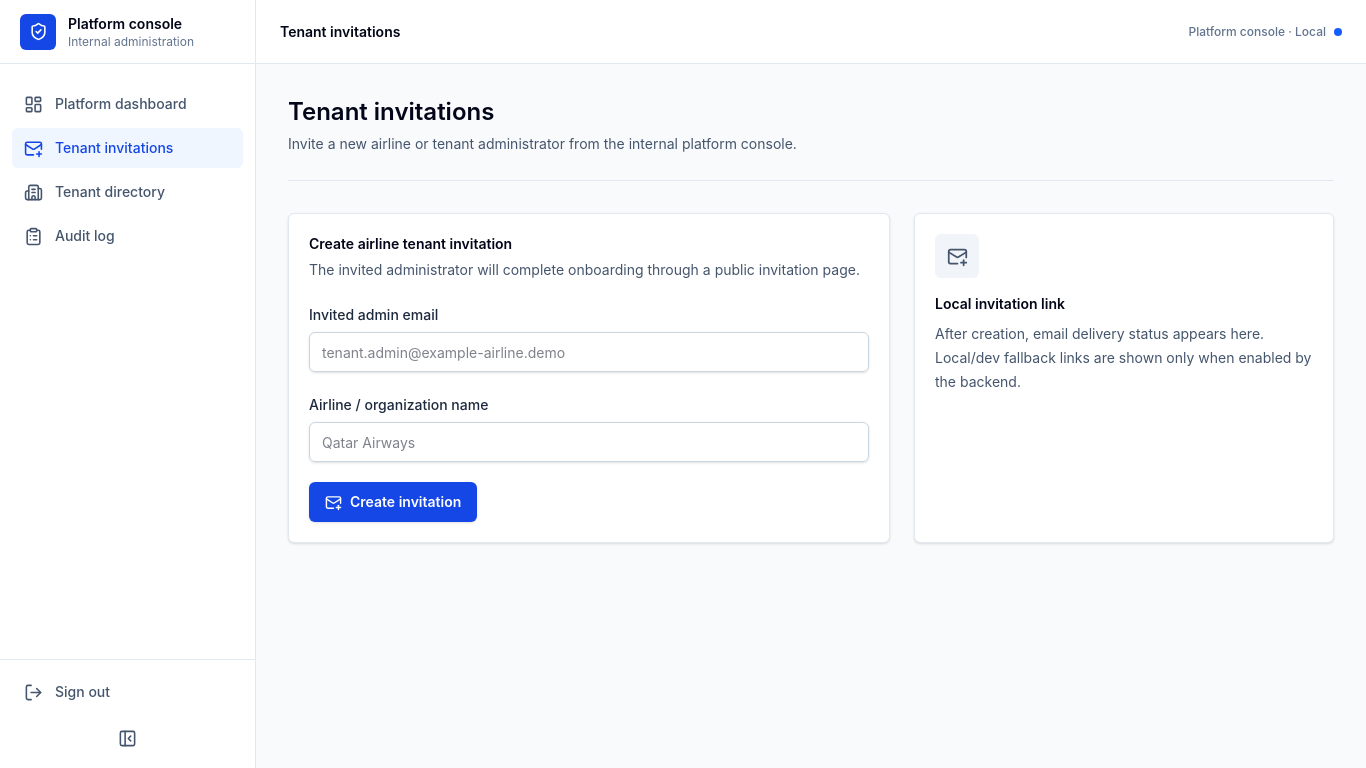
Test case: PlatformInvitationsPage › shows failed email delivery state without hiding the available fallback link
The image size is (1366, 768).
Type "tenant.admin@thy.demo" into the field labelled "Invited admin email" at (589, 352), box [309,332,869,372]
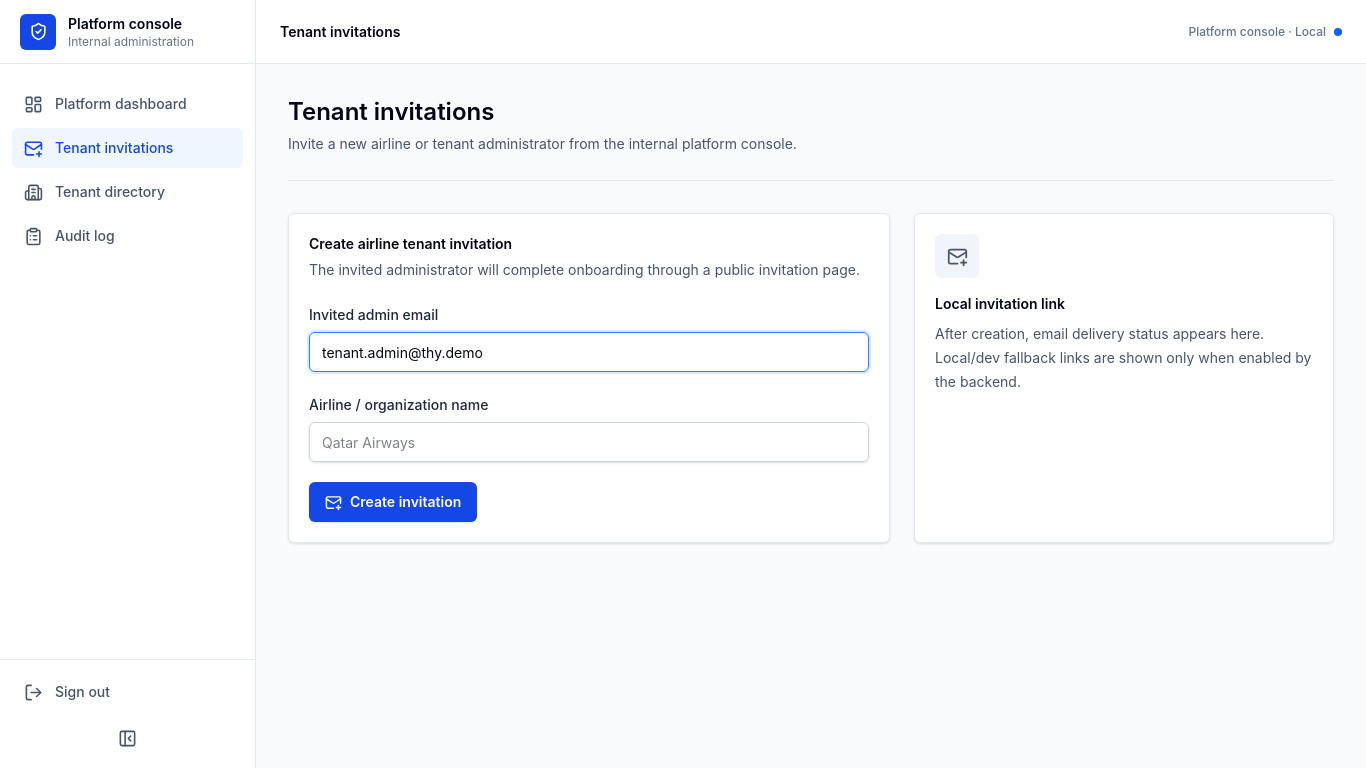
Type "THY Airlines" into the field labelled "Airline / organization name" at (589, 442), box [309,422,869,462]
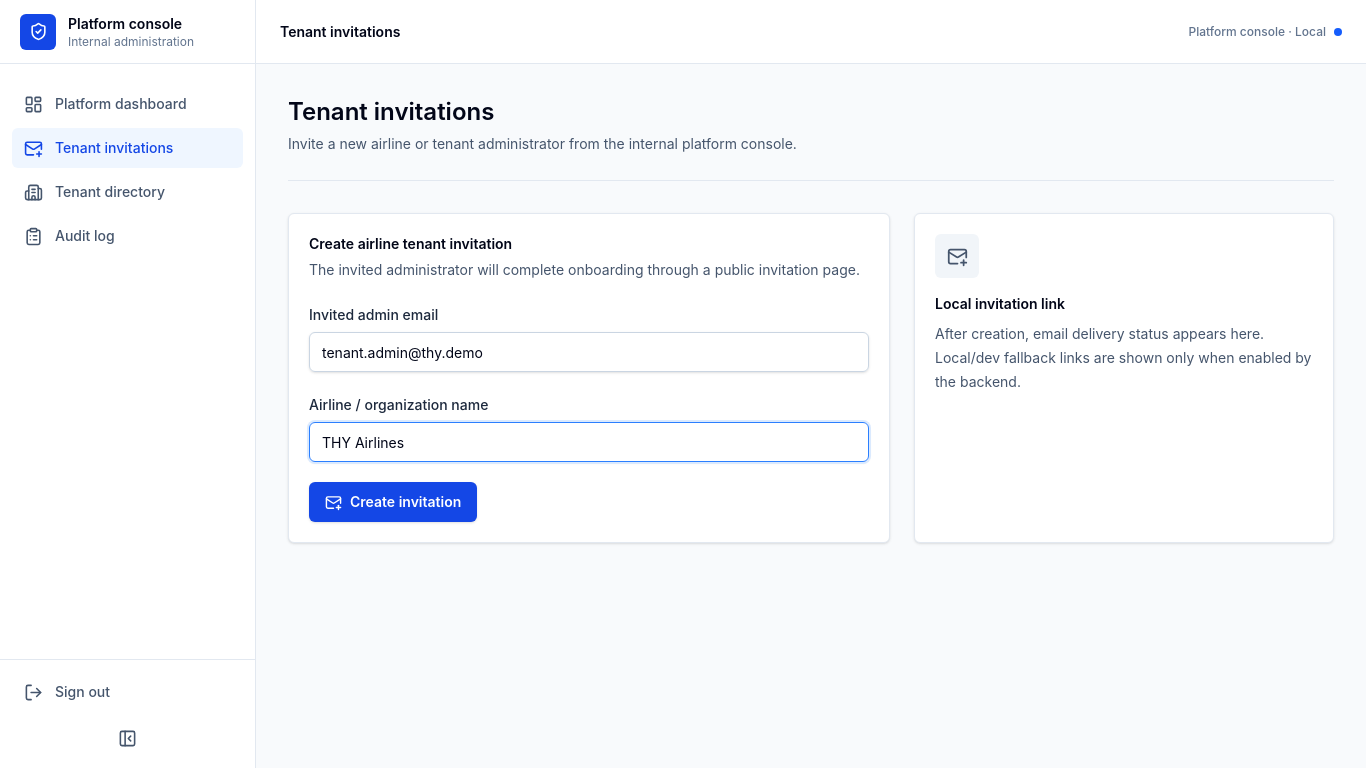
Click the button "Create invitation" at (393, 502), box [309,482,477,522]
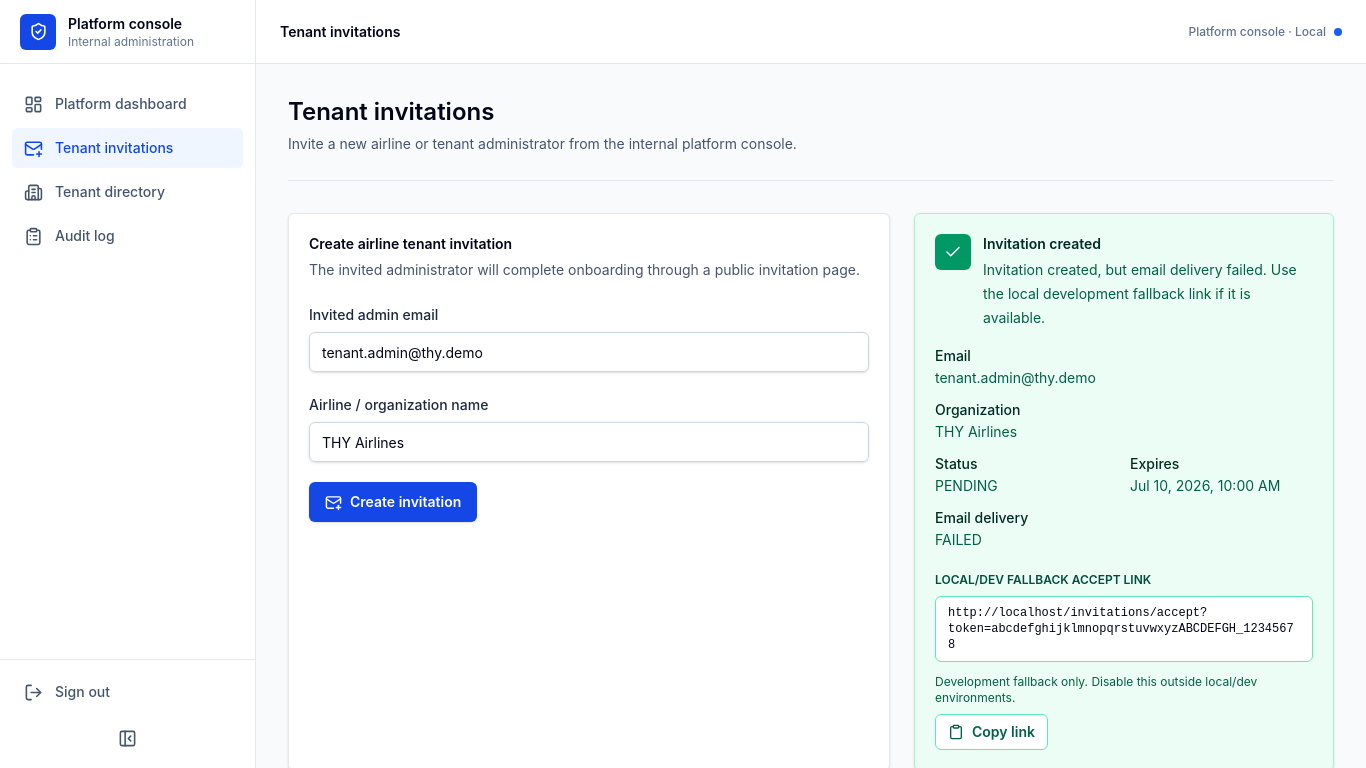
Check: the text "Invitation created, but email delivery failed" is shown, box [983,261,1297,326]
Check: the text box labelled "Local/dev fallback accept link" is shown, box [935,596,1313,662]
